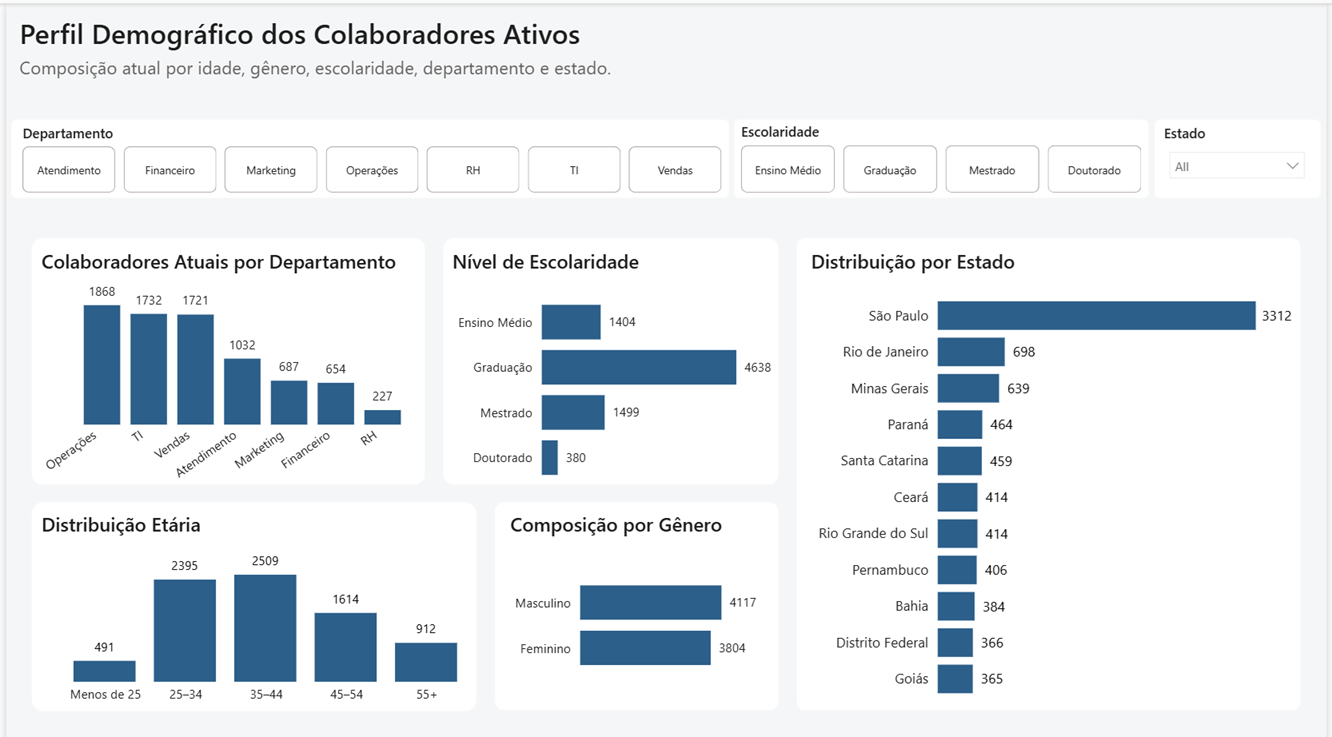

This screenshot's page, from the dashboard's own definition file:
{"tool":"powerbi","page":{"name":"Demografia","canvas":[1280,720],"ordinal":2},"visuals":[{"type":"clusteredBarChart","title":"Distribuição por Estado","fields":{"Category":["dim_geography.state"],"Y":["_Measures.HC Snapshot (d)"]},"box":[775.1,237.2,476.4,451.7],"z":0},{"type":"barChart","title":"Composição por Gênero","fields":{"Y":["_Measures.HC Snapshot (d)"],"Category":["fact_employees.gender"]},"box":[483.5,492.8,253.6,196.1],"z":1000},{"type":"columnChart","title":"Distribuição Etária","fields":{"Category":["fact_employees.Faixa Etária"],"Y":["_Measures.HC Atual"]},"box":[28.7,492.8,446.6,196.1],"z":2000},{"type":"barChart","title":"Nível de Escolaridade","fields":{"Category":["dim_education.education_level"],"Y":["_Measures.HC Atual"]},"box":[427.1,237.2,322.4,244.3],"z":3000},{"type":"columnChart","title":"Colaboradores Atuais por Departamento","fields":{"Category":["dim_job.department"],"Y":["_Measures.HC Atual"]},"box":[28.7,237.2,377.8,244.3],"z":4000},{"type":"advancedSlicerVisual","fields":{"Values":["dim_job.department"]},"box":[10.3,116,688.9,72.9],"z":5000},{"type":"slicer","title":"Estado","fields":{"Values":["dim_geography.state"]},"box":[1118,116,151.9,73.9],"z":6000},{"type":"advancedSlicerVisual","fields":{"Values":["dim_education.education_level"]},"box":[707.3,115,401.4,73.9],"z":7000},{"type":"textbox","title":"Perfil Demográfico dos Colaboradores Ativos","box":[7.3,11,756.2,66],"z":8000}]}

Visuals, with their boxes in screenshot pixels (x1, y1, x2, y2), scaled from the page's 1280x720 canvas onto the 1332x737 screenshot:
"Distribuição por Estado" clusteredBarChart: (807,243,1302,705)
"Composição por Gênero" barChart: (503,504,767,705)
"Distribuição Etária" columnChart: (30,504,495,705)
"Nível de Escolaridade" barChart: (444,243,780,493)
"Colaboradores Atuais por Departamento" columnChart: (30,243,423,493)
advancedSlicerVisual - dim_job.department: (11,119,728,193)
"Estado" slicer: (1163,119,1321,194)
advancedSlicerVisual - dim_education.education_level: (736,118,1154,193)
"Perfil Demográfico dos Colaboradores Ativos" textbox: (8,11,795,79)
